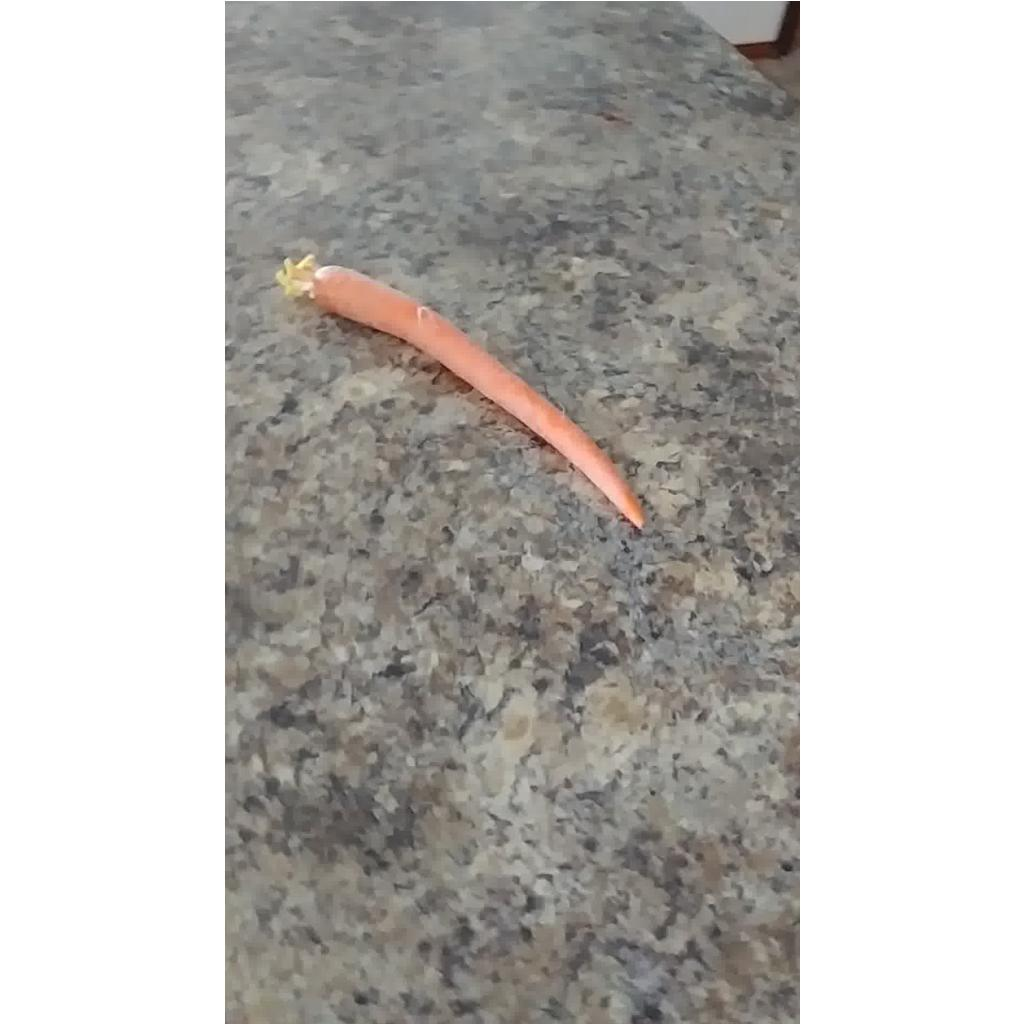carrot: (276, 254, 644, 527)
